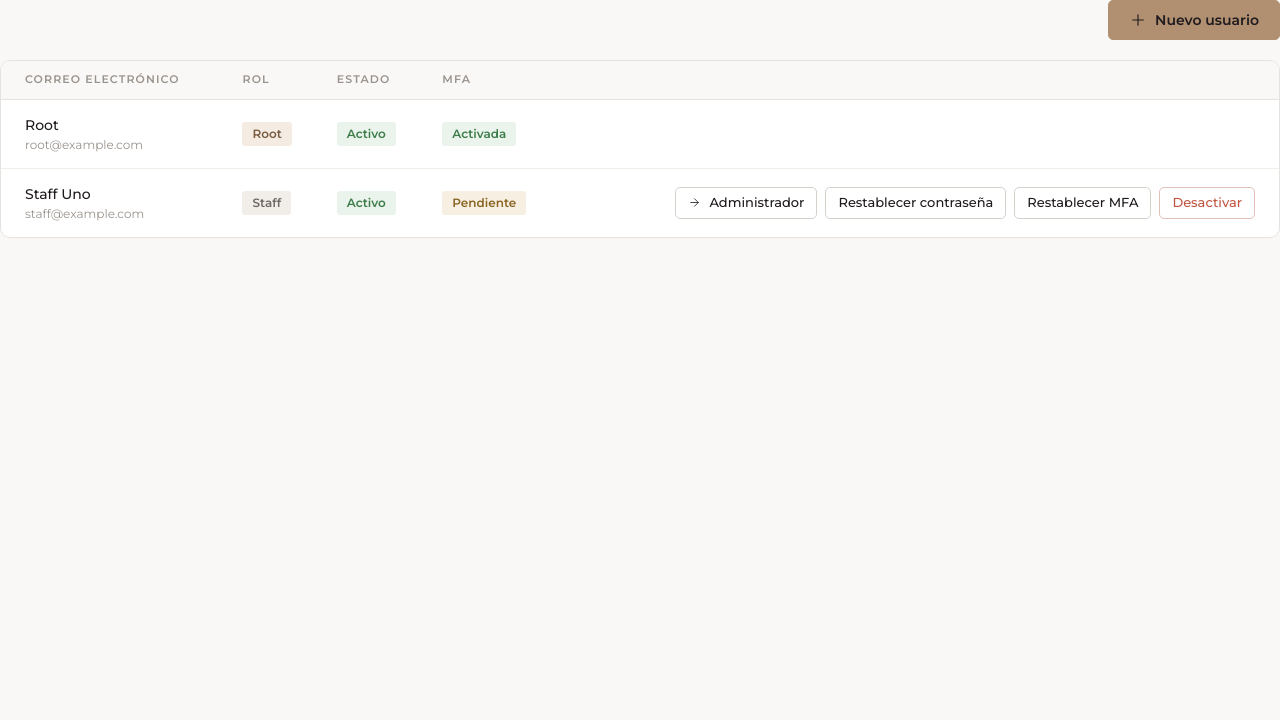
Test: TeamPage (root-only team management) › resets MFA behind a confirmation dialog
Check: the text "staff@example.com" is shown, box left=25, top=206, right=144, bottom=221
Click the button "Restablecer MFA". click: [1083, 203]
box: left=1014, top=187, right=1151, bottom=219
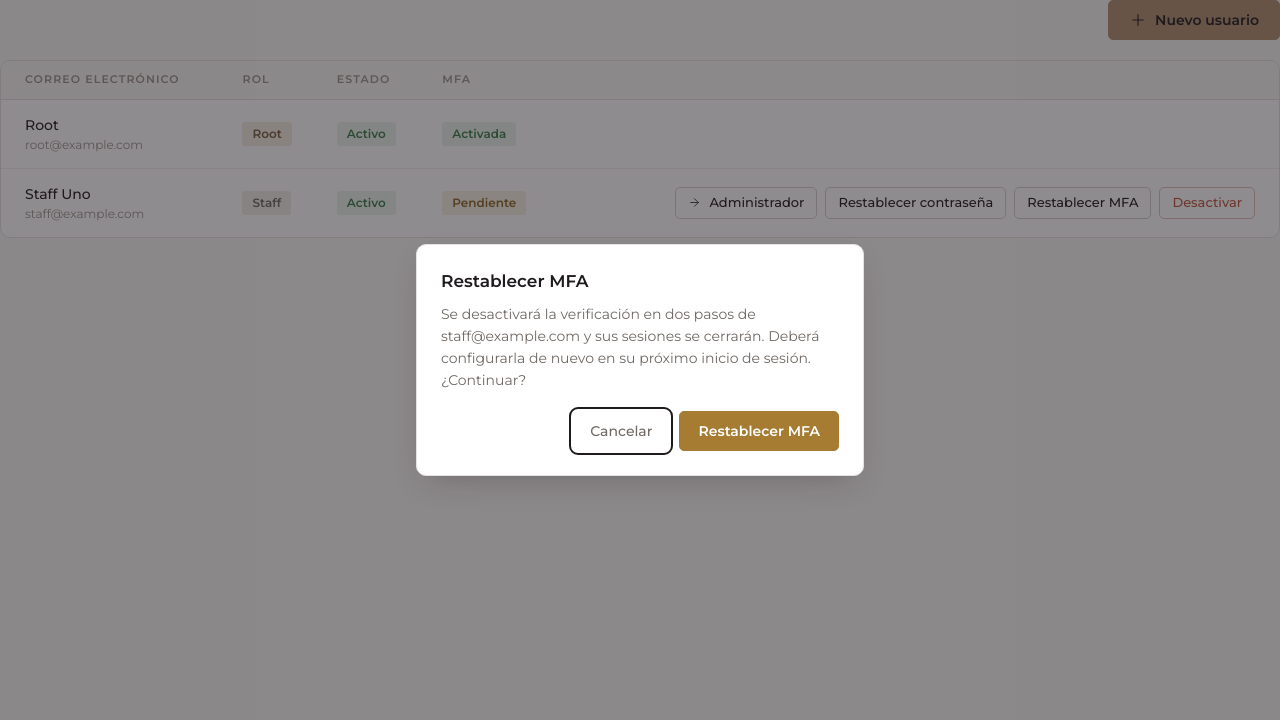
Check: the dialog shows "staff@example.com", box left=441, top=305, right=819, bottom=389
Click the button "Restablecer MFA". click: [759, 431]
box: left=680, top=411, right=839, bottom=451
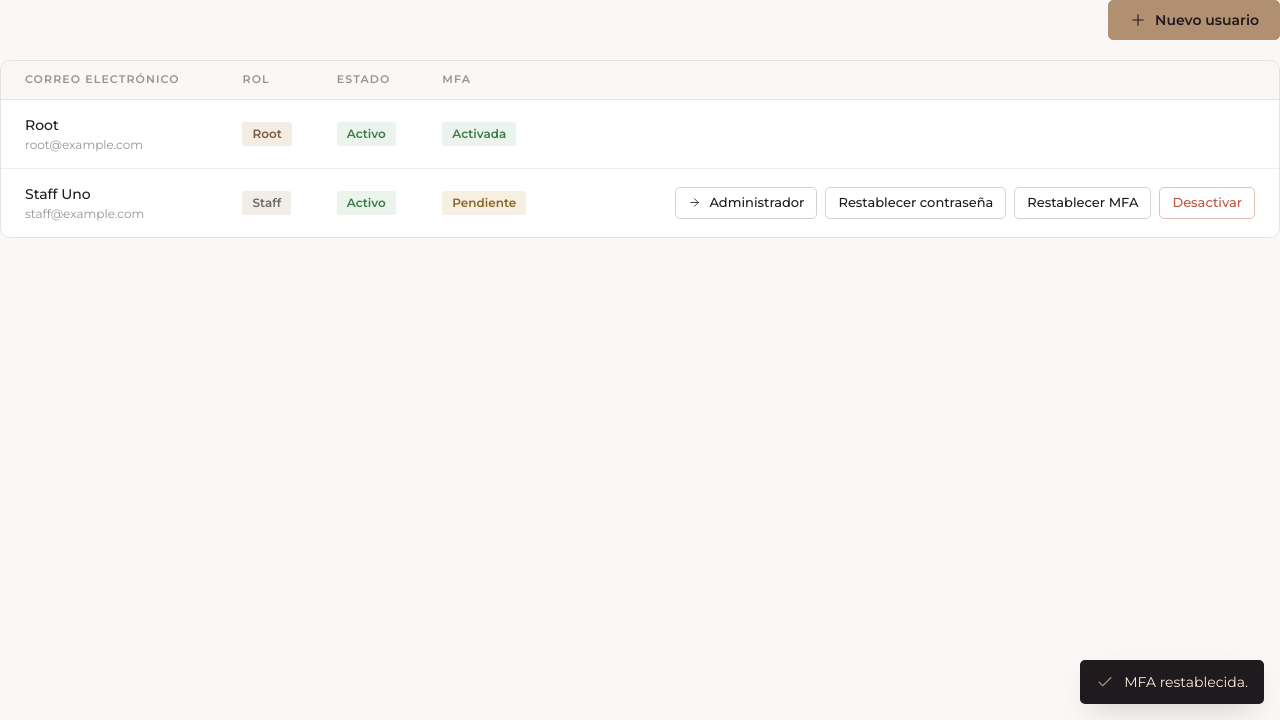
Check: the dialog is gone
